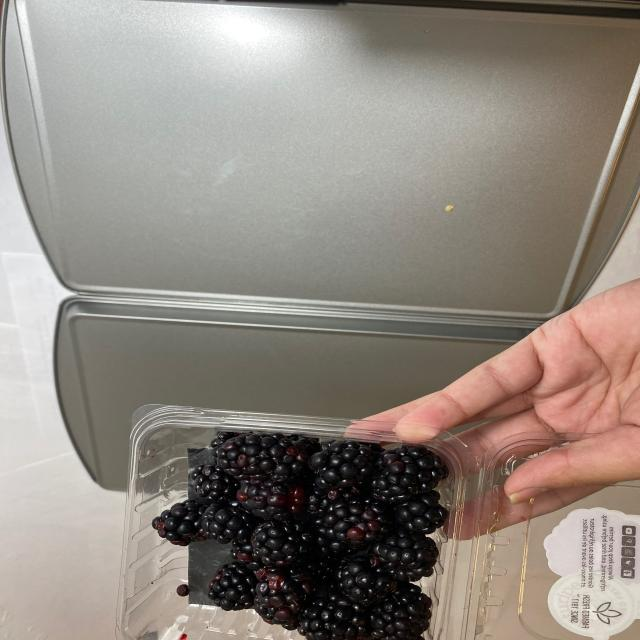blackberries: (119, 433, 458, 640)
